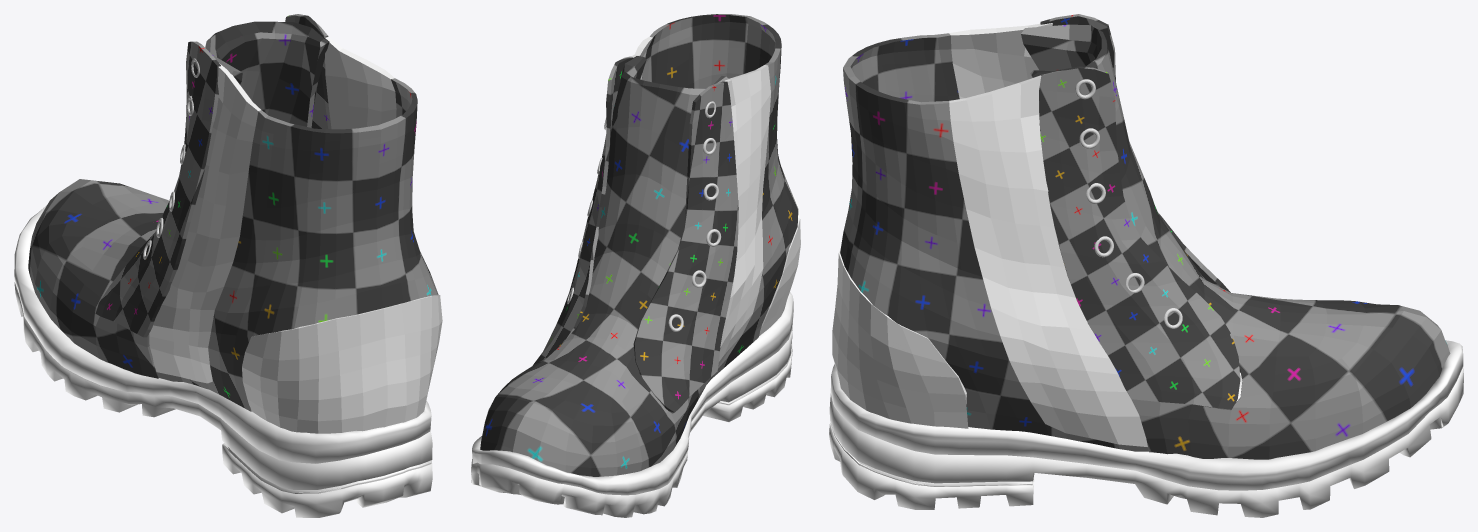
File: Bot 3.2.gltf
3 views of the same model, side by side, from view 1: azimuth 30°, elevation 25°; view 2: azimuth 150°, elevation 25°; view 3: azimuth 270°, elevation 25° (orthographic). The views are drawn at different scales.
Parts seen in each view (by area): view 1: Zad-bok, Podo, Nos, Pytka, Zad-bok.001, Per-bok, Torus.001; view 2: Nos, Per-bok, Podo, Zad-bok, Zad-bok.001, Pytka, Torus.001; view 3: Nos, Zad-bok, Zad-bok.001, Podo, Per-bok, Pytka, Torus.001.
Part boxes in pixels (x1,y1,x2,y2): Zad-bok: (156, 78, 438, 411); Podo: (14, 205, 432, 517); Nos: (28, 21, 329, 378); Pytka: (242, 295, 442, 433); Zad-bok.001: (149, 36, 396, 383); Per-bok: (95, 14, 331, 337); Torus.001: (143, 58, 199, 259); Nos: (480, 56, 728, 476); Per-bok: (533, 56, 738, 413); Podo: (471, 292, 793, 517); Zad-bok: (641, 14, 798, 383); Zad-bok.001: (631, 36, 770, 379); Pytka: (759, 193, 800, 335); Torus.001: (567, 101, 721, 331); Nos: (1021, 24, 1450, 459); Zad-bok: (840, 33, 1148, 451); Zad-bok.001: (949, 23, 1147, 446); Podo: (829, 340, 1463, 517); Per-bok: (1039, 14, 1240, 410); Pytka: (832, 249, 968, 428); Torus.001: (1075, 79, 1182, 328).
Bounding box in the file's own units: 1.59 × 3.02 × 4.07.
Materials: 6 (3 with a texture image).
